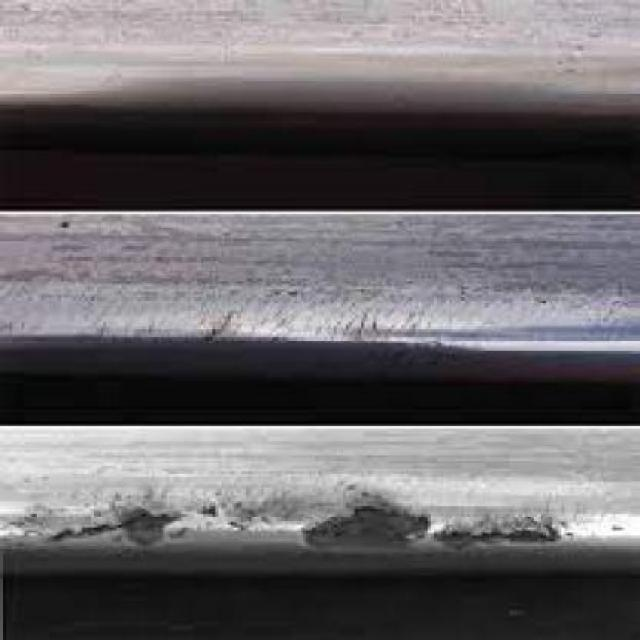defective: (3, 194, 640, 640)
